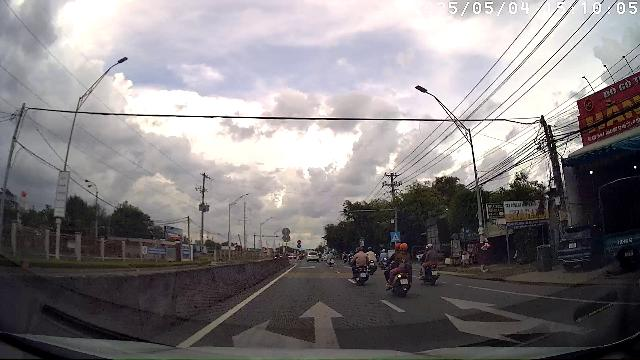423a-duong-nguoi-di-bo-sang-ngang-1: (391, 232, 401, 242)
